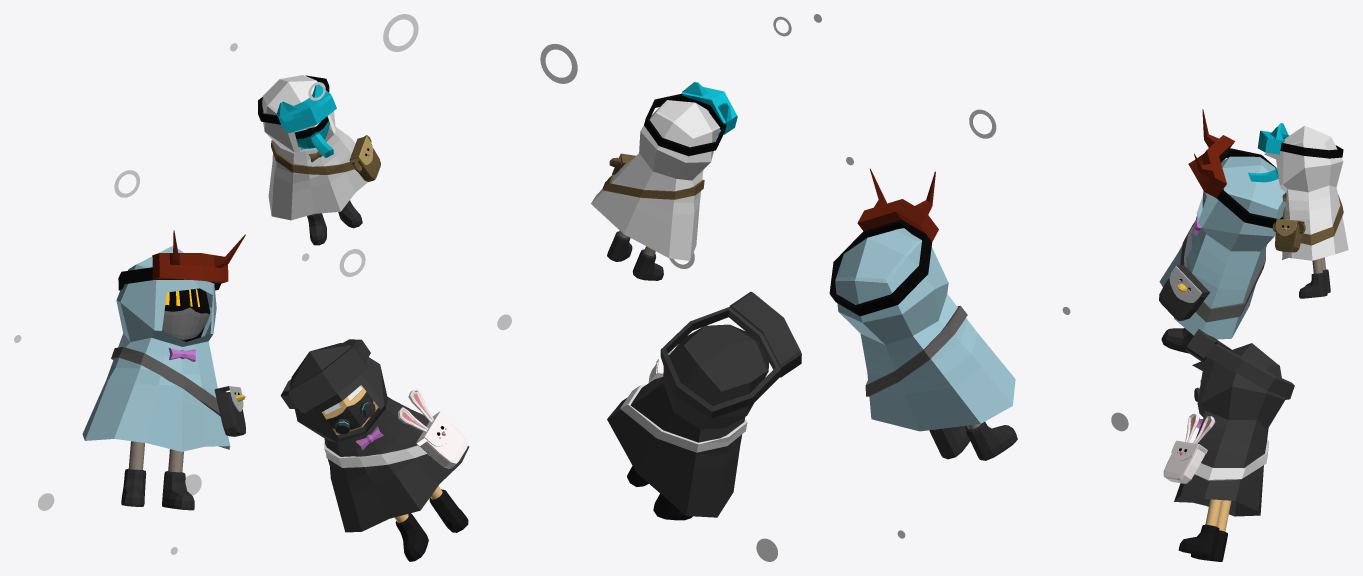
The model's file is Human_left_v2.glb.
3 renders of one model, left to right at view 1: azimuth 30°, elevation 25°; view 2: azimuth 150°, elevation 25°; view 3: azimuth 270°, elevation 25°, orthographic. The views are drawn at different scales.
Visible parts, largest first — view 1: Body.014, Body.016, Body.005, VR02.002, VR01.002, 02RabbitBag.001, VR03, Body.015, Leg L.007, Leg R.007, 03PenguinBag.002, Body.017 (+8 smaller); view 2: Body.014, Body.016, Body.005, VR01.002, VR02.002, VR03, Body.015, Body.017, Leg R.007, Body.006, Leg L.007, Leg R.002; view 3: Body.014, Body.016, Body.005, VR02.002, VR01.002, 03PenguinBag.002, 02RabbitBag.001, VR03, Leg L.008, Body.015, Body.017, 04MonkeyBag (+5 smaller).
Part boxes in pixels (x1,y1,x2,y2): Body.014: (82, 245, 230, 451); Body.016: (289, 343, 469, 532); Body.005: (262, 75, 367, 220); VR02.002: (118, 230, 245, 290); VR01.002: (280, 339, 370, 413); 02RabbitBag.001: (398, 389, 468, 468); VR03: (258, 75, 336, 133); Body.015: (111, 347, 220, 416); Leg L.007: (162, 449, 194, 510); Leg R.007: (121, 441, 146, 506); 03PenguinBag.002: (214, 386, 245, 436); Body.017: (324, 438, 426, 467); Body.014: (835, 228, 1015, 431); Body.016: (607, 324, 769, 517); Body.005: (591, 100, 720, 260); VR01.002: (660, 291, 801, 418); VR02.002: (829, 168, 938, 316); VR03: (644, 82, 737, 156); Body.015: (865, 305, 967, 396); Body.017: (620, 384, 747, 452); Leg R.007: (965, 422, 1017, 460); Body.006: (602, 174, 704, 199); Leg L.007: (929, 425, 969, 459); Leg R.002: (632, 246, 663, 280); Body.014: (1159, 156, 1285, 339); Body.016: (1174, 343, 1285, 516); Body.005: (1264, 125, 1348, 260); VR02.002: (1188, 109, 1282, 228); VR01.002: (1185, 329, 1294, 399); 03PenguinBag.002: (1159, 265, 1209, 320); 02RabbitBag.001: (1163, 413, 1215, 483); VR03: (1257, 123, 1343, 158); Leg L.008: (1178, 499, 1222, 557); Body.015: (1180, 223, 1265, 322); Body.017: (1193, 440, 1268, 480); 04MonkeyBag: (1272, 219, 1305, 252).
Size of the model in its own units: 14.62 by 15.75 by 5.69.
